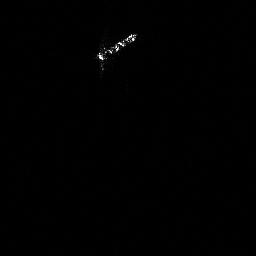ship: (93, 29, 142, 71)
